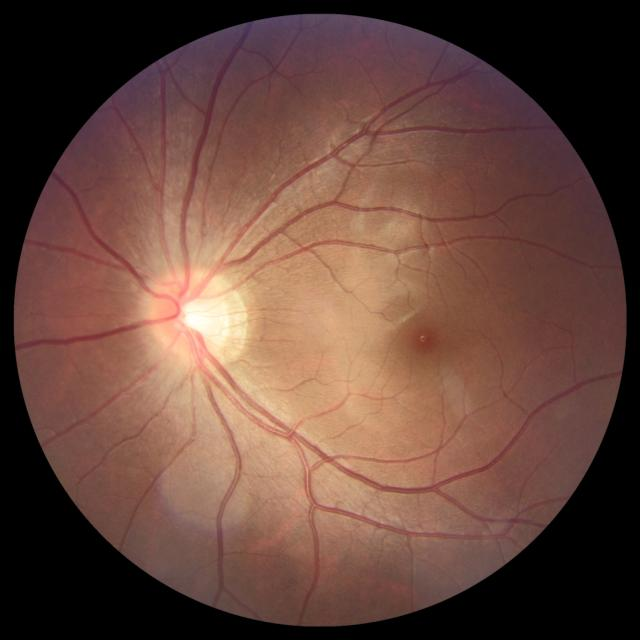OC: (182, 294, 230, 342)
OD: (148, 268, 232, 360)
